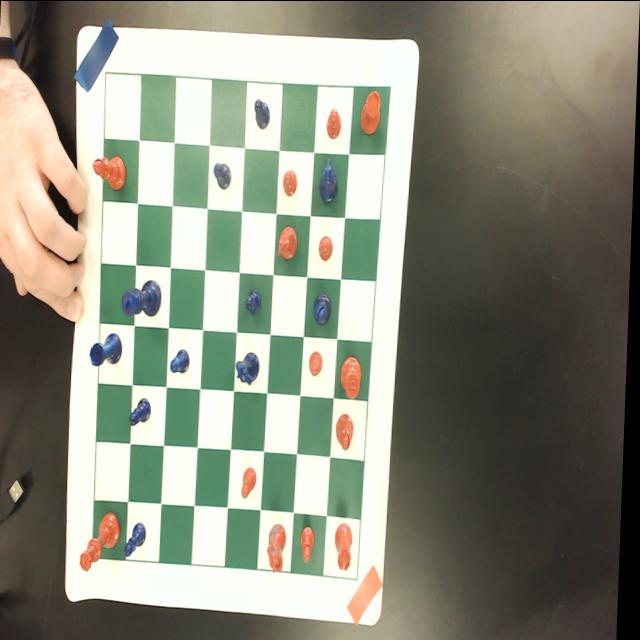B: (315, 290, 334, 324)
K: (123, 278, 164, 317)
N: (319, 155, 340, 204), (236, 351, 263, 386)
P: (126, 522, 149, 558), (131, 396, 154, 428), (253, 96, 271, 130), (171, 346, 192, 374), (213, 162, 232, 189), (246, 288, 263, 314)
R: (90, 332, 125, 367)
b: (90, 154, 128, 190), (338, 412, 357, 450)
k: (342, 354, 365, 399)
n: (268, 522, 290, 574), (276, 225, 298, 259)
p: (302, 525, 319, 563), (325, 108, 342, 140), (244, 466, 260, 498), (282, 170, 299, 198), (310, 350, 325, 378), (318, 235, 334, 261)
q: (82, 509, 126, 572)
r: (359, 89, 380, 140), (336, 522, 357, 572)
